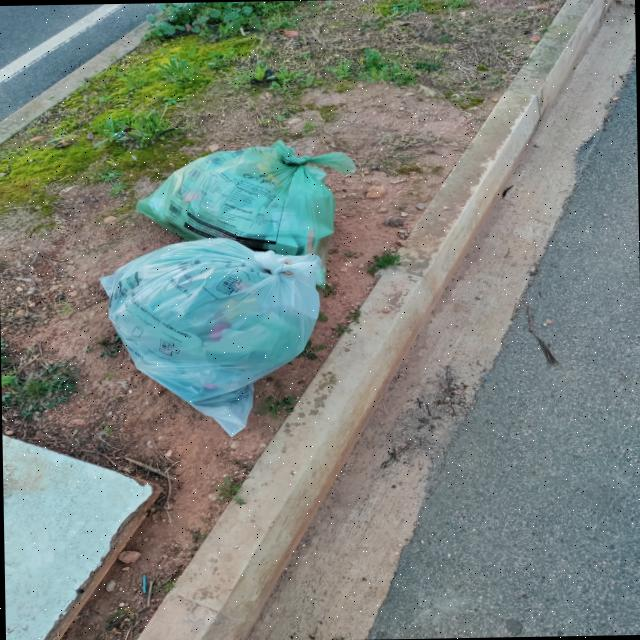Recyclable Material: (94, 233, 328, 442), (134, 134, 364, 264)
